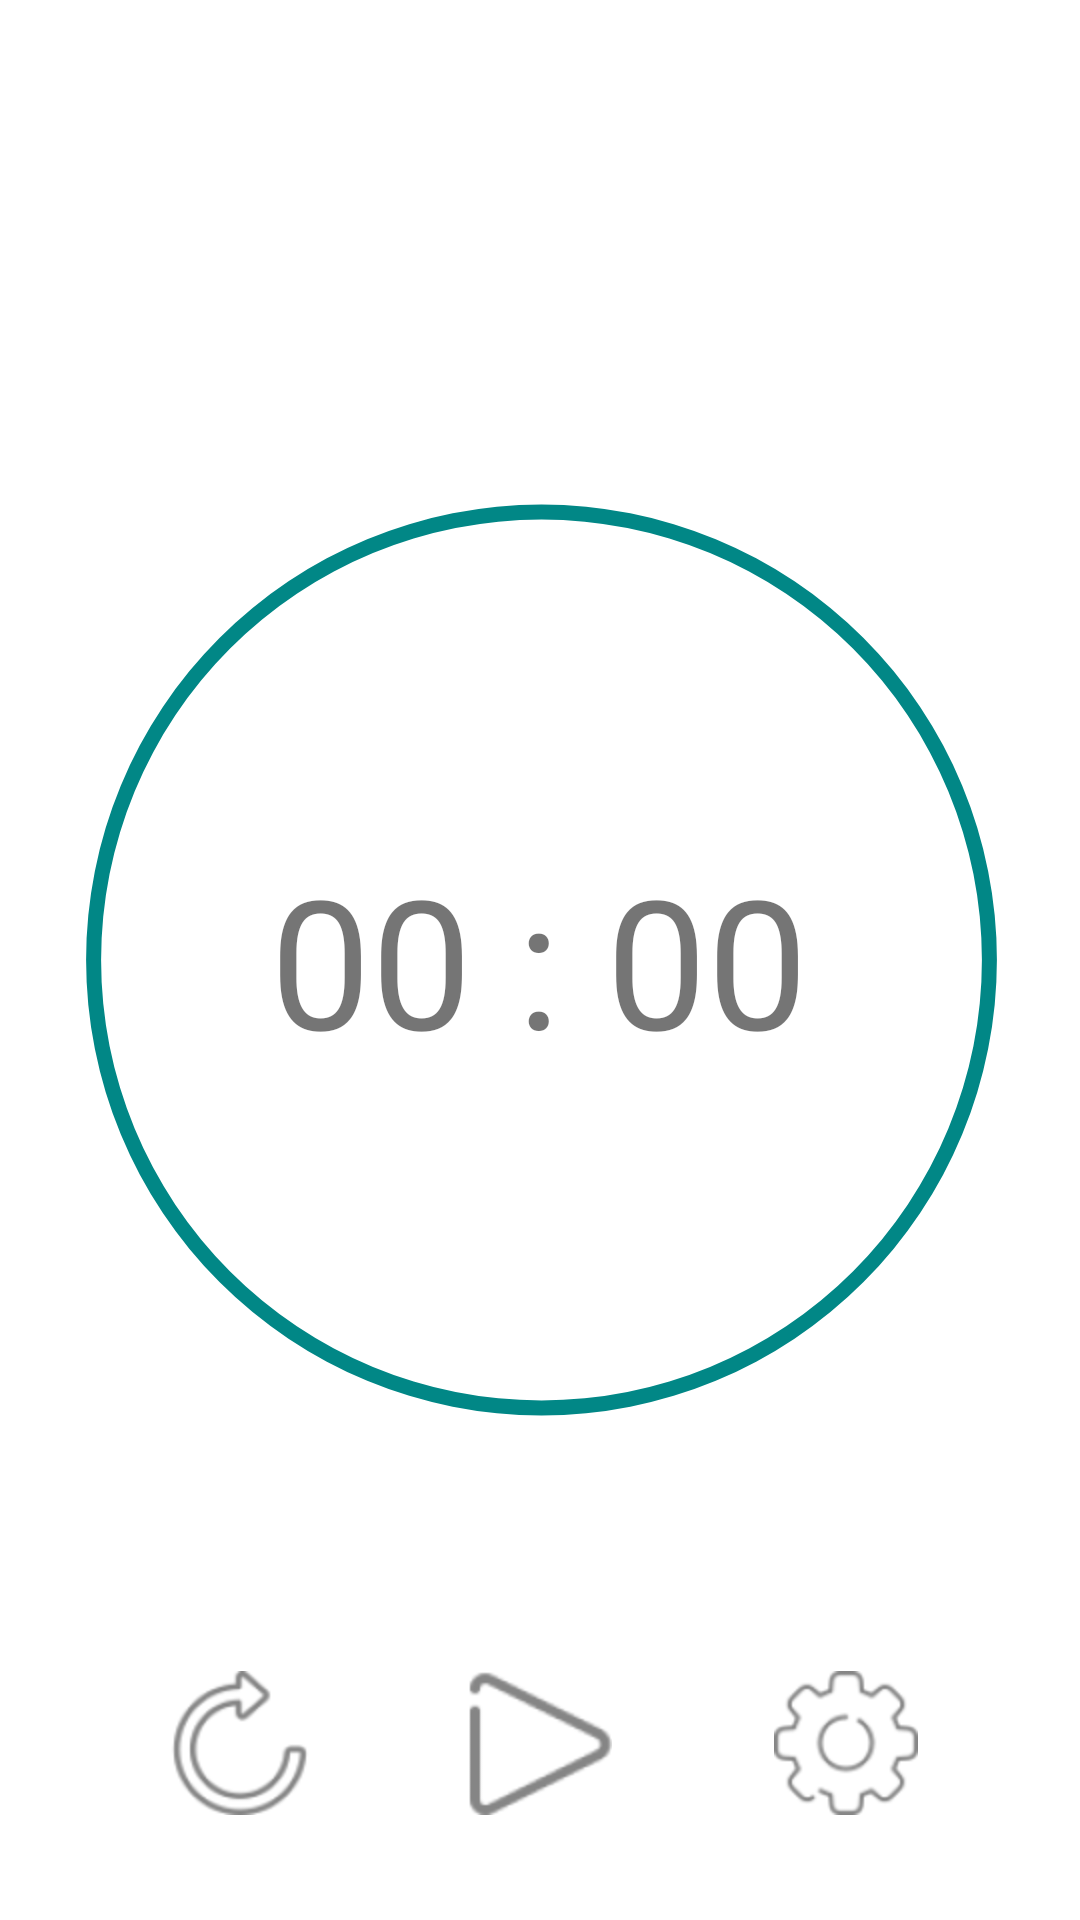

Locate icon controls on the screen. Image size 1080px x 1920px, boxes as detection(x1, y1, x2, y2).
refresh: detection(173, 1671, 307, 1815)
setting: detection(774, 1671, 918, 1815)
